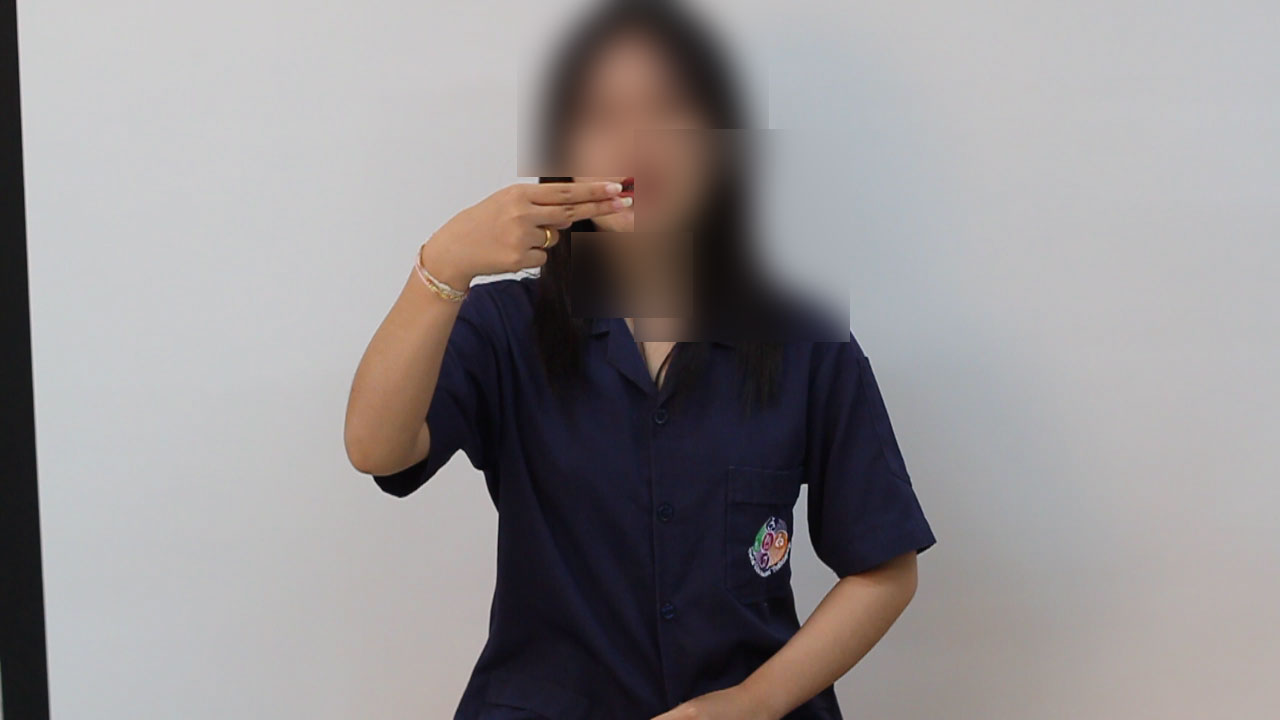hor: (384, 165, 638, 310)
